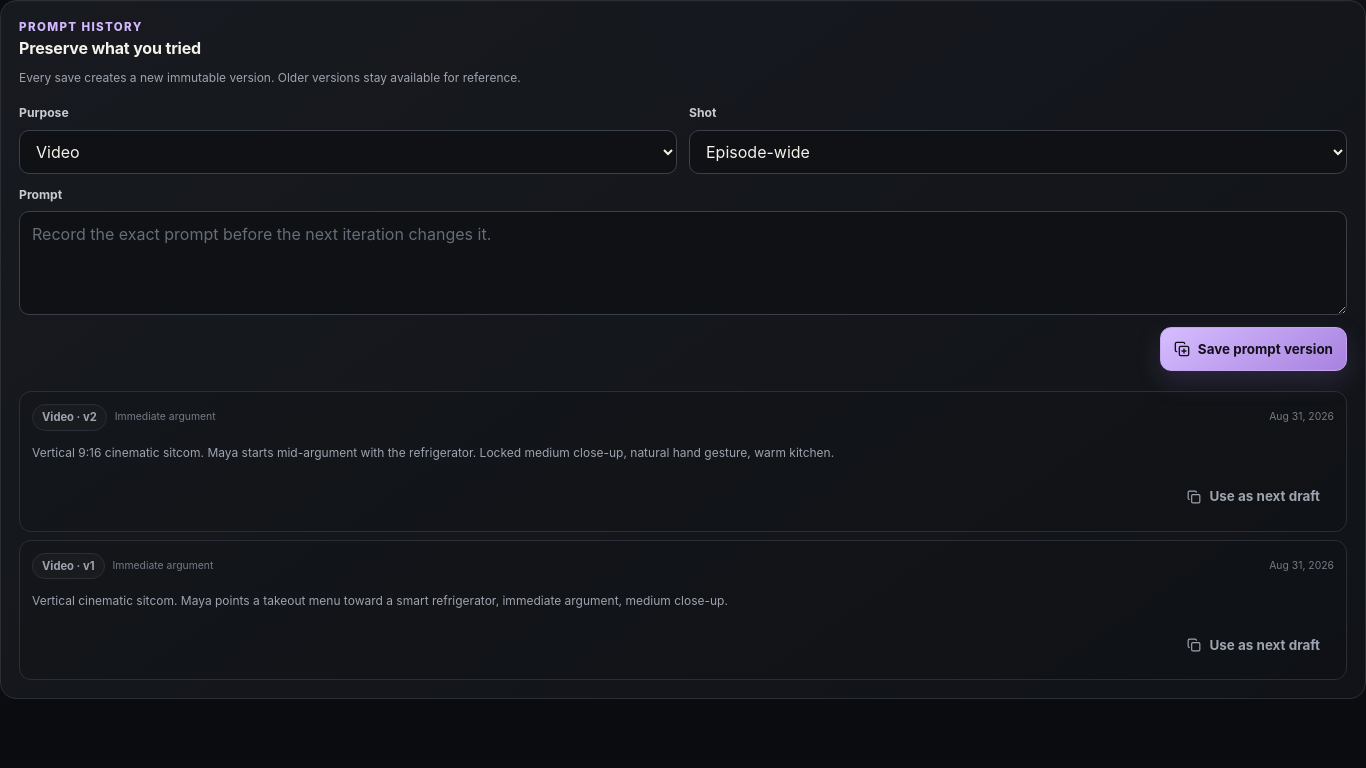
Test: PromptHistoryPanel › saves exact content in the selected shot chain
Select "Fridge responds" in the dropdown labelled "Shot". click: [1018, 152]
box: left=689, top=130, right=1347, bottom=174
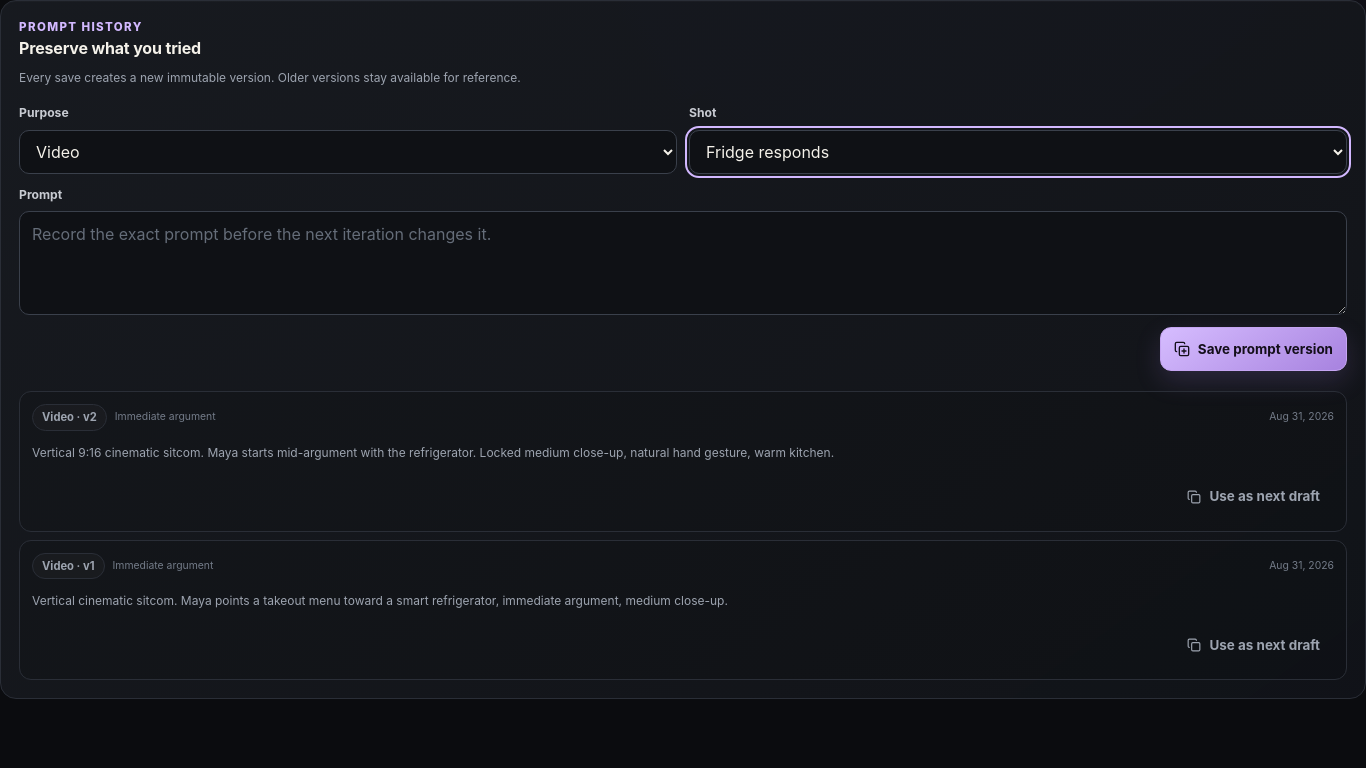
Type "  Exact prompt spacing.  " into the text box labelled "Prompt". click: [683, 263]
box: left=19, top=211, right=1347, bottom=315
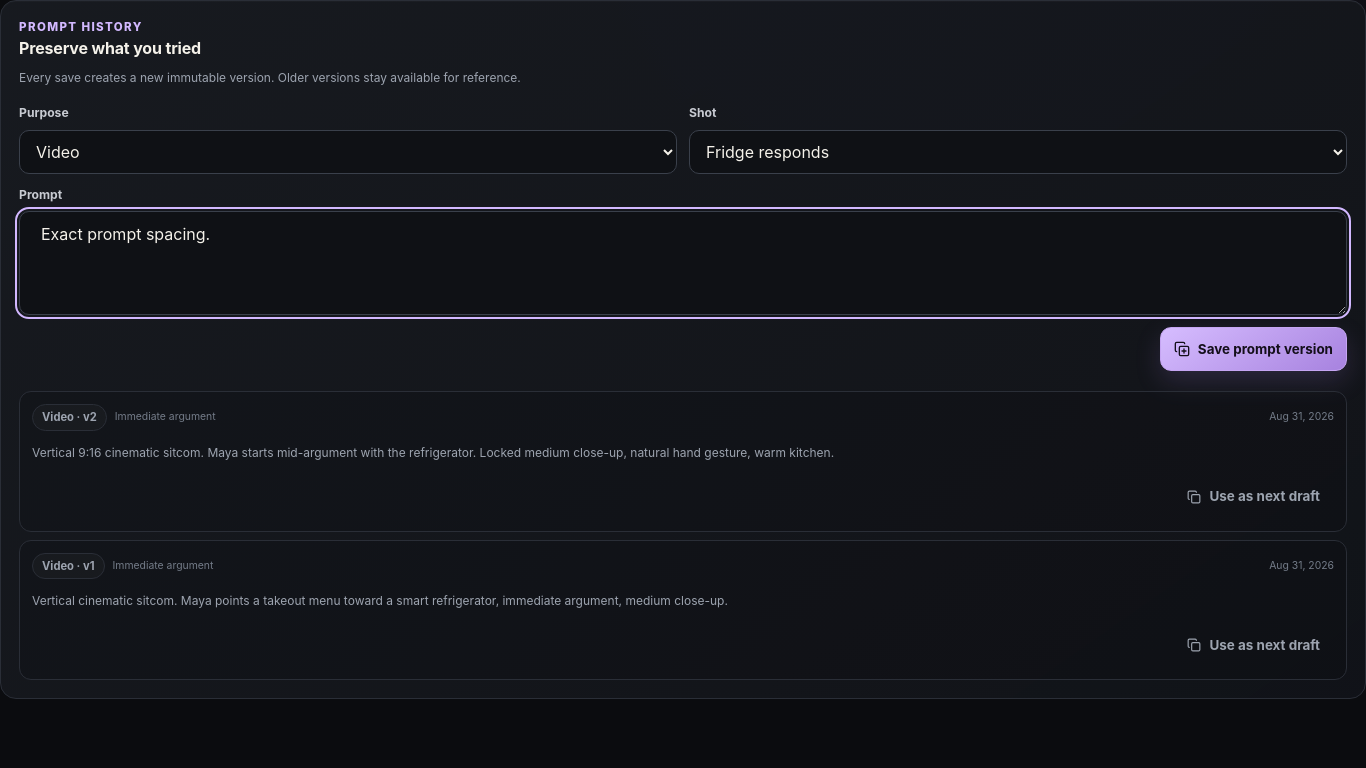
Click the button "Save prompt version". click: [1253, 349]
box: left=1160, top=327, right=1347, bottom=371
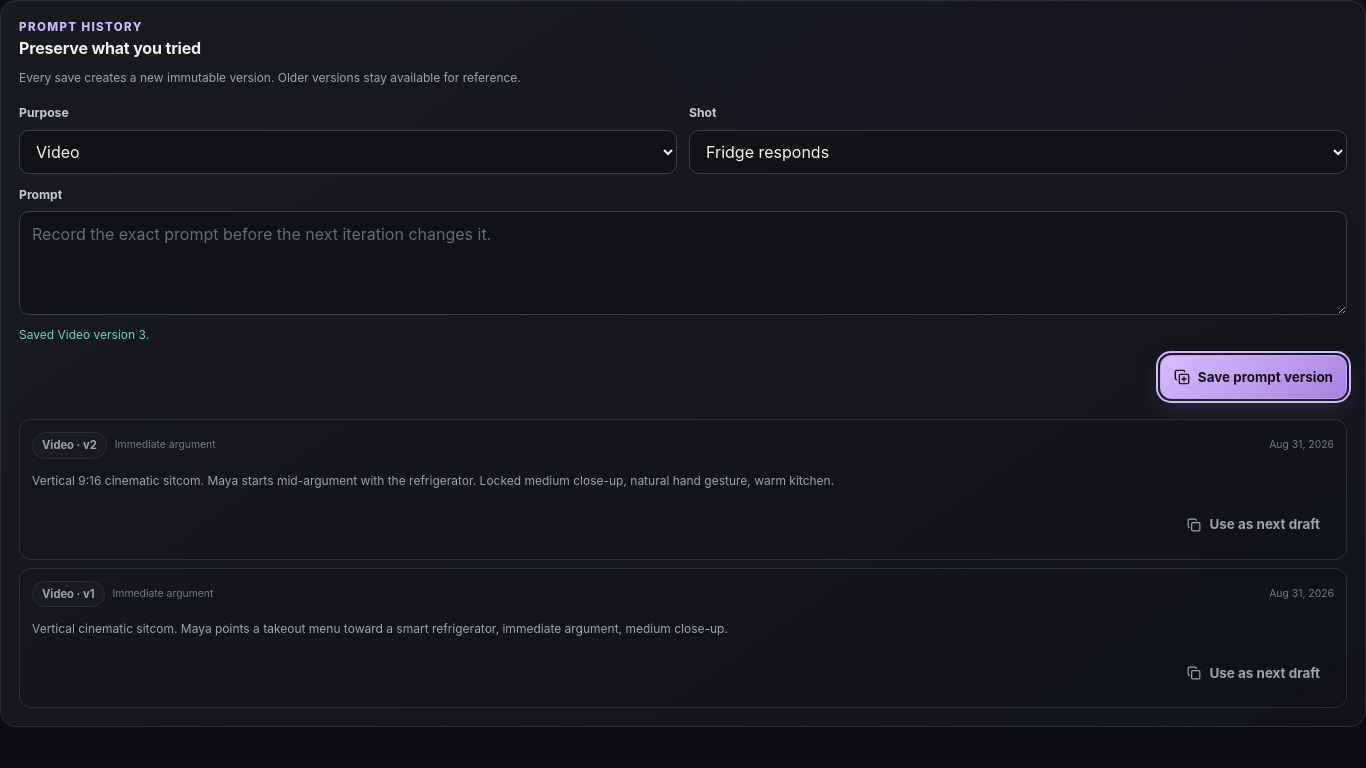
Check: the message reads "Saved Video version 3.", box left=19, top=327, right=149, bottom=342
